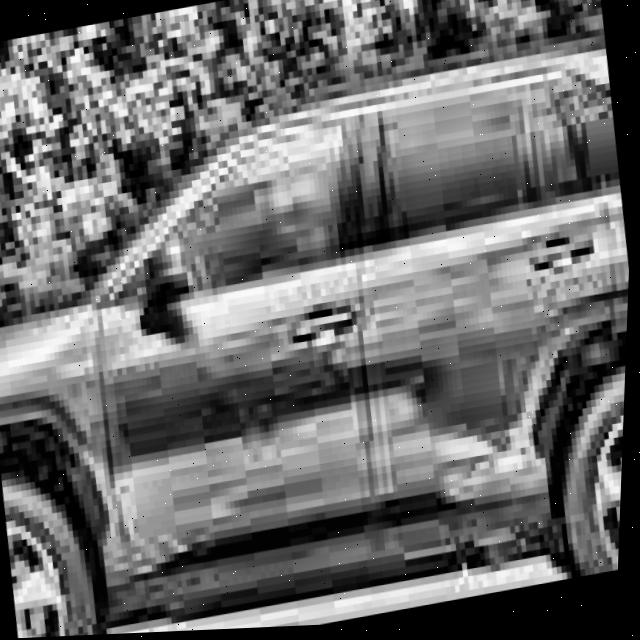light_vehicle: (0, 33, 638, 640)
